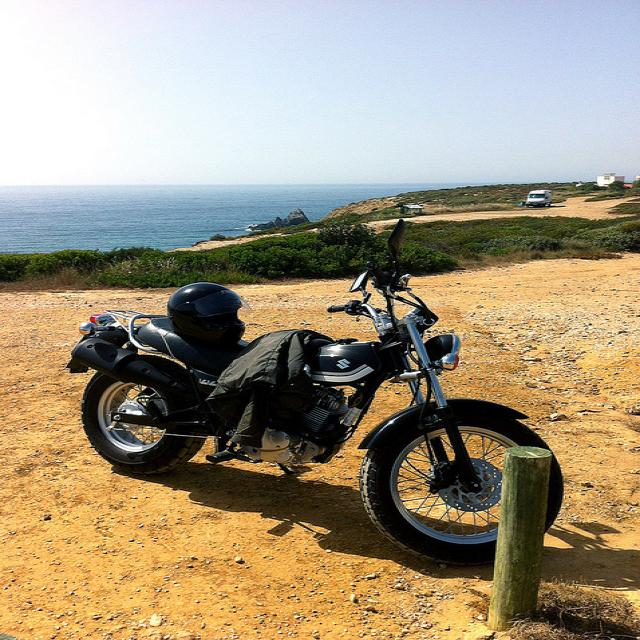motor: (66, 215, 571, 565)
